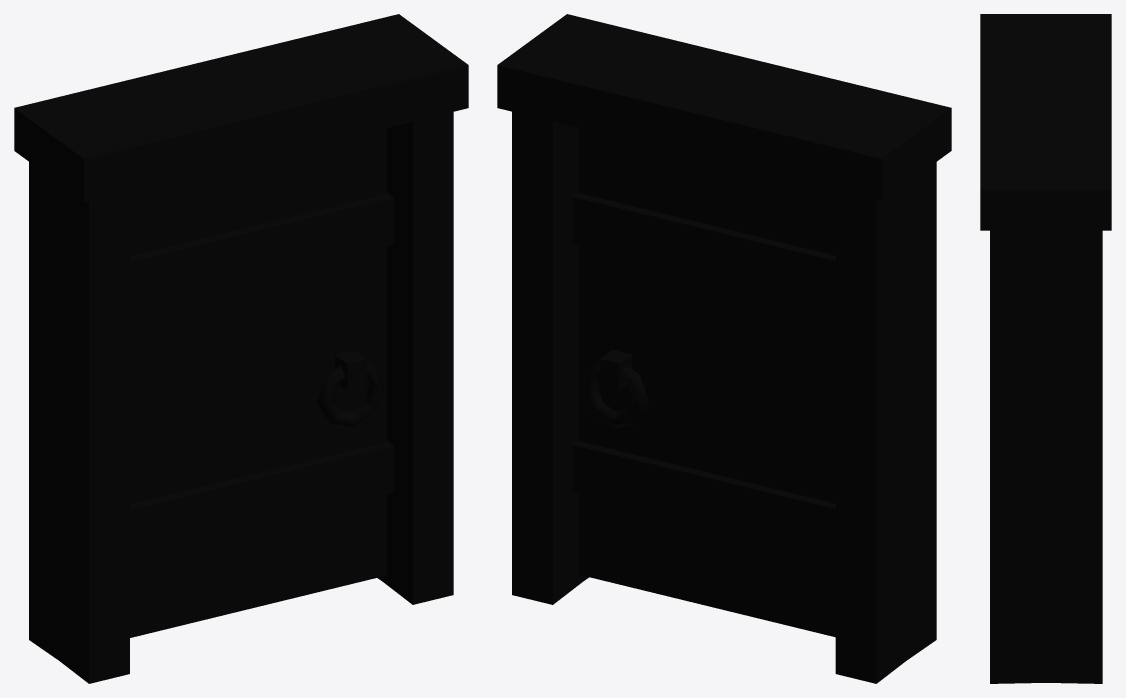
File: Door.fbx
3 renders of one model, left to right at view 1: azimuth 30°, elevation 25°; view 2: azimuth 150°, elevation 25°; view 3: azimuth 270°, elevation 25°, orthographic. The views are drawn at different scales.
Visible parts, largest first — view 1: Door; view 2: Door; view 3: Door.
Boxes of the visible parts, left/top/right/bottom form: Door: left=14, top=14, right=468, bottom=683; Door: left=497, top=14, right=951, bottom=683; Door: left=980, top=14, right=1111, bottom=683.
Bounding box in the file's own units: 190 × 251 × 59.75.
1 material, 1 textured.
